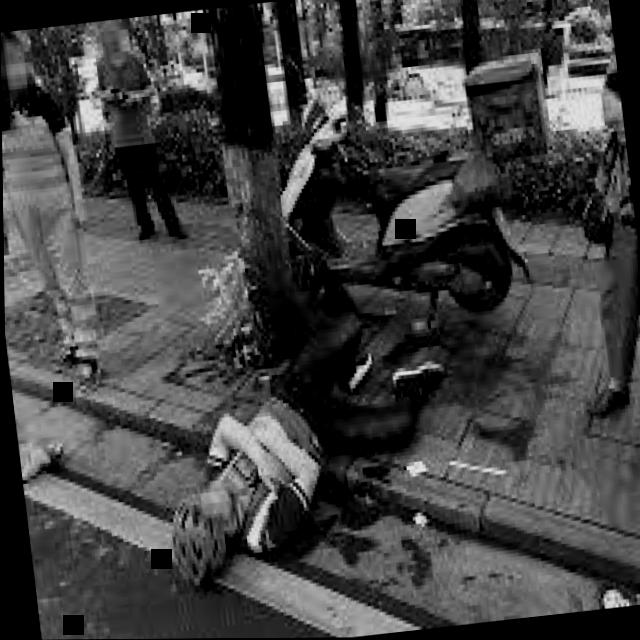Fall-Detected: (124, 294, 475, 594)
